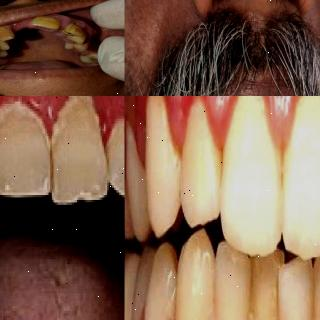Gum Swelling: (0, 96, 62, 140), (89, 96, 124, 143)
calculus: (49, 96, 107, 183), (0, 97, 49, 187), (106, 110, 125, 182), (64, 42, 92, 52), (70, 32, 90, 42), (0, 26, 14, 40), (0, 24, 16, 32), (67, 21, 81, 28)
cavities: (64, 21, 83, 37)
stains: (31, 16, 59, 30), (80, 50, 95, 60), (0, 42, 6, 50)
